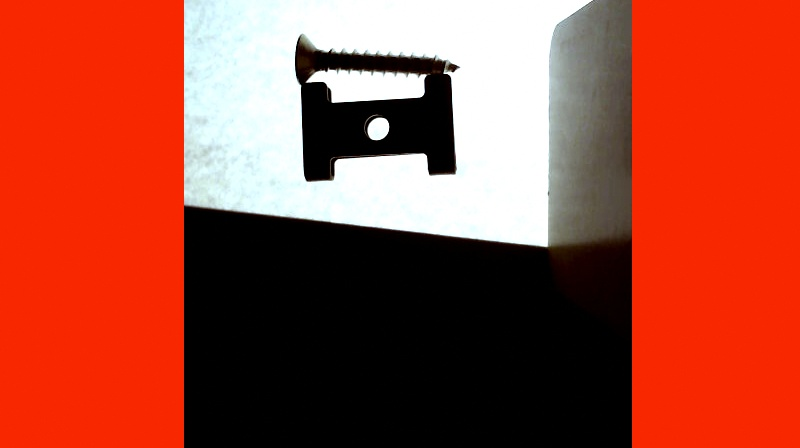O002: (300, 75, 457, 182)
S001: (293, 32, 462, 86)
